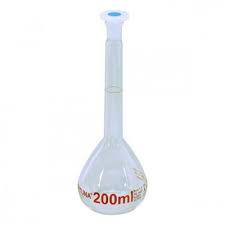Volumetric flask: (72, 13, 162, 216)
